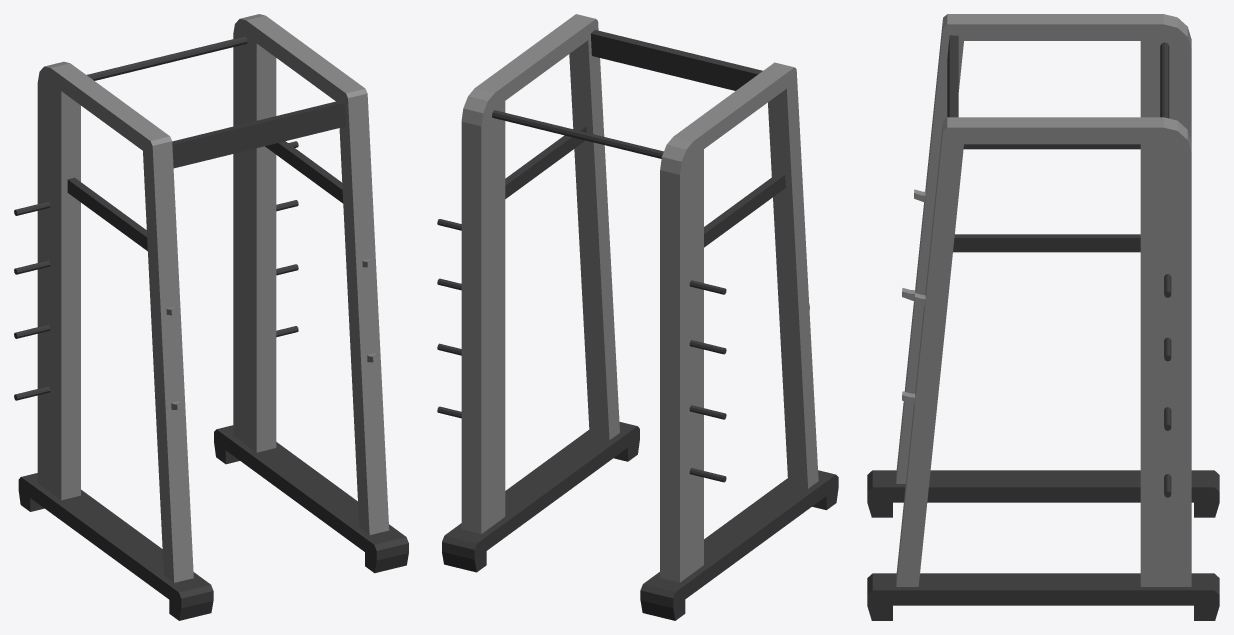
Rendered from Sm_Machine.fbx.
3 views of the same model, side by side, from view 1: azimuth 30°, elevation 25°; view 2: azimuth 150°, elevation 25°; view 3: azimuth 270°, elevation 25° (orthographic). The views are drawn at different scales.
Parts seen in each view (by area): view 1: Sm_Machine; view 2: Sm_Machine; view 3: Sm_Machine.
Part boxes in pixels (left/top/right/bottom): Sm_Machine: left=14, top=14, right=408, bottom=620; Sm_Machine: left=437, top=14, right=838, bottom=620; Sm_Machine: left=867, top=14, right=1219, bottom=620.
Size of the model in its own units: 167 by 257 by 167.
